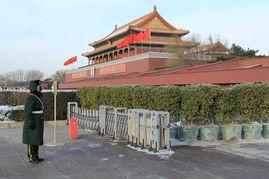up: (22, 77, 47, 162)
